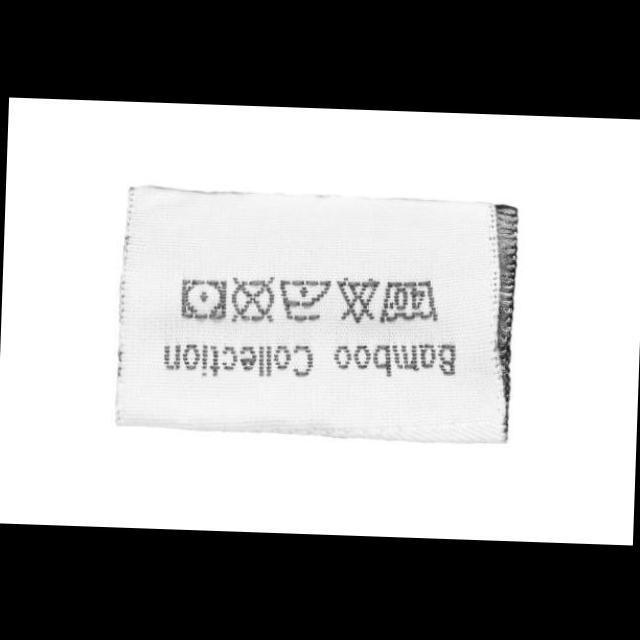40C: (378, 274, 442, 326)
DN_bleach: (330, 273, 381, 325)
DN_dry_clean: (225, 270, 276, 324)
iron_low: (276, 274, 332, 324)
tumble_dry_low: (177, 272, 228, 322)
